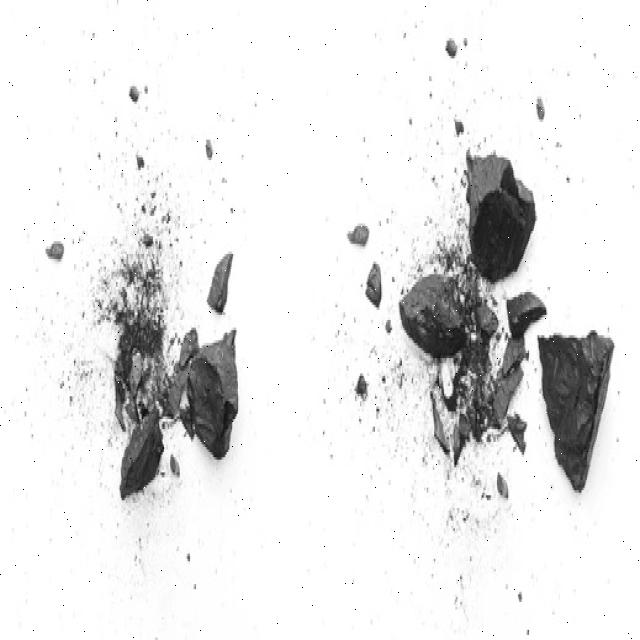Sedimentary: (534, 325, 620, 498), (456, 127, 548, 287), (172, 325, 260, 483), (393, 274, 475, 363), (115, 402, 169, 506), (502, 284, 552, 348), (206, 246, 238, 322)
